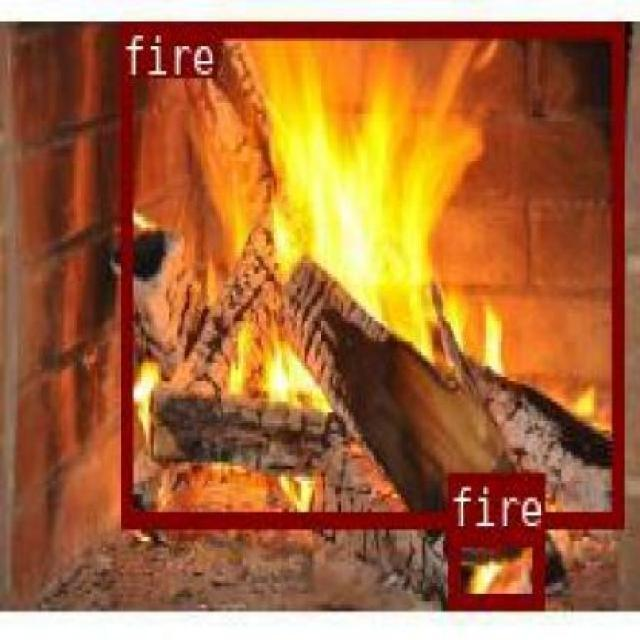fire: (120, 21, 622, 524), (446, 529, 543, 609)
